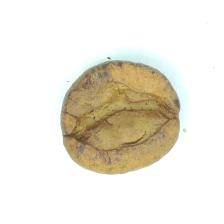NG: (66, 73, 174, 149)
